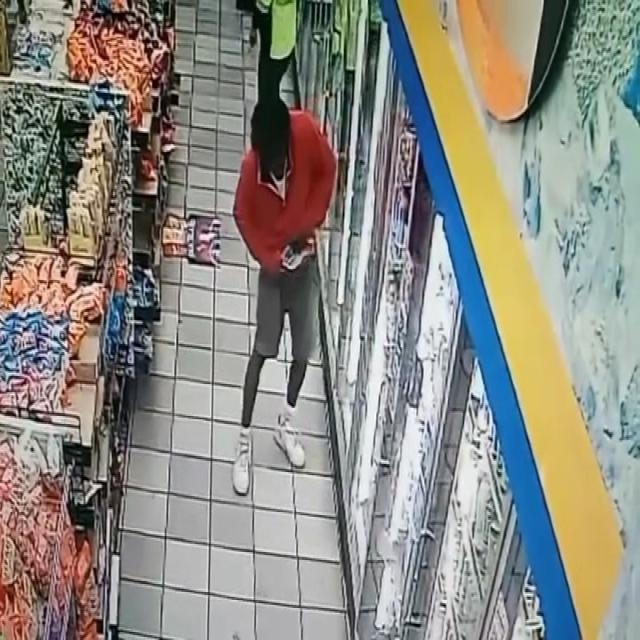Shoplifting: (231, 86, 348, 497)
